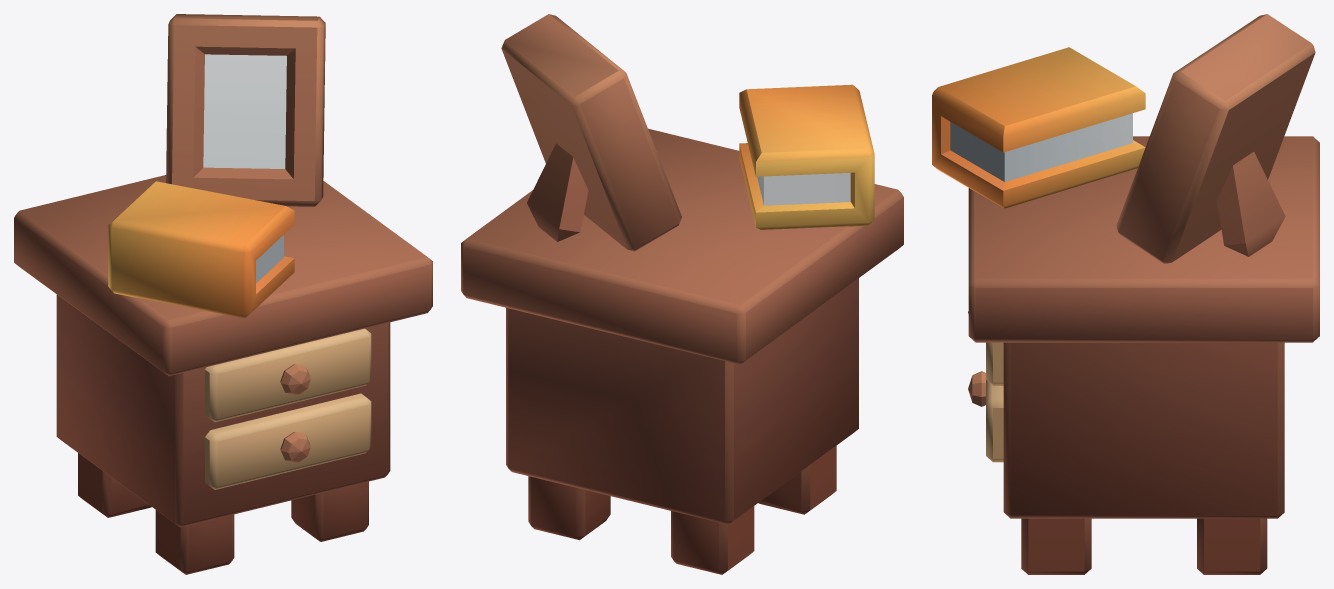
File: cabinet_small_decorated.glb
The picture shows the model from 3 angles, left to right: view 1: azimuth 30°, elevation 25°; view 2: azimuth 150°, elevation 25°; view 3: azimuth 270°, elevation 25°; orthographic projection. The views are drawn at different scales.
Visible parts, largest first — view 1: cabinet_small_decorated; view 2: cabinet_small_decorated; view 3: cabinet_small_decorated.
Part boxes in pixels (x1,y1,x2,y2): cabinet_small_decorated: [14, 14, 432, 574]; cabinet_small_decorated: [461, 14, 903, 574]; cabinet_small_decorated: [932, 14, 1319, 574].
Size of the model in its own units: 1.05 by 1.62 by 1.1.
Materials: 1 (1 with a texture image).
